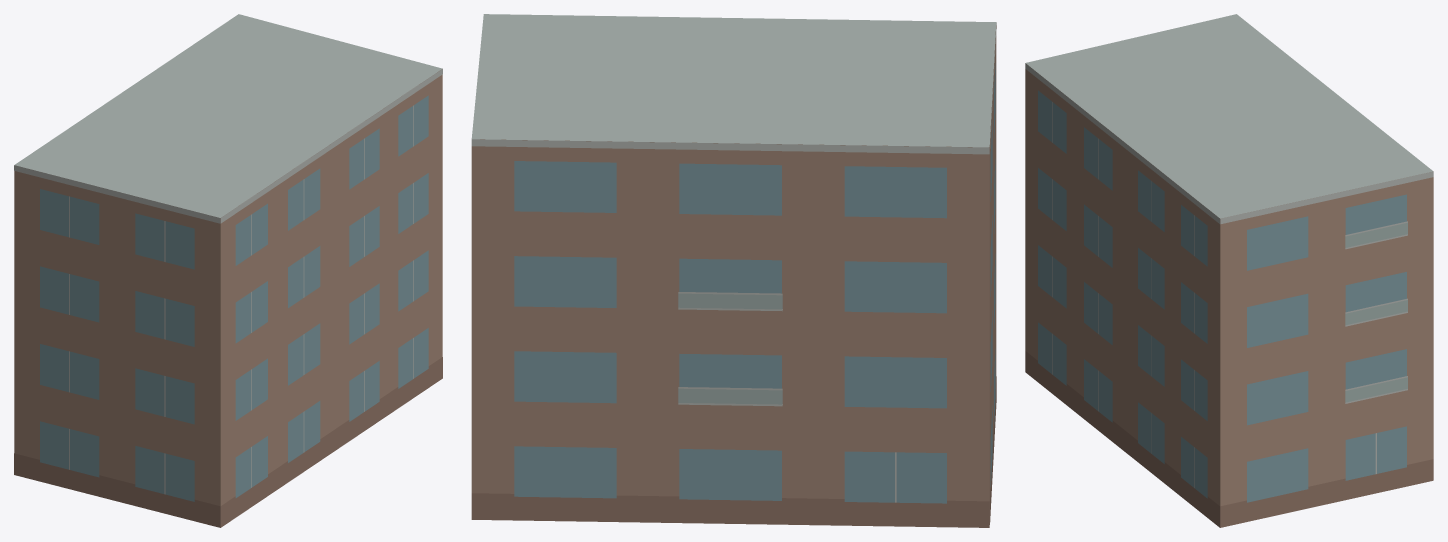
The model's file is survey-upis-32704877.glb.
3 renders of one model, left to right at view 1: azimuth 30°, elevation 25°; view 2: azimuth 150°, elevation 25°; view 3: azimuth 270°, elevation 25°, orthographic. The views are drawn at different scales.
Visible parts, largest first — view 1: survey-upis-32704877.tmp; view 2: survey-upis-32704877.tmp; view 3: survey-upis-32704877.tmp.
Part boxes in pixels (left/top/right/bottom): survey-upis-32704877.tmp: left=14, top=14, right=442, bottom=527; survey-upis-32704877.tmp: left=471, top=14, right=996, bottom=527; survey-upis-32704877.tmp: left=1025, top=14, right=1433, bottom=527.
Bounding box in the file's own units: 18.75 × 13.2 × 15.81.
